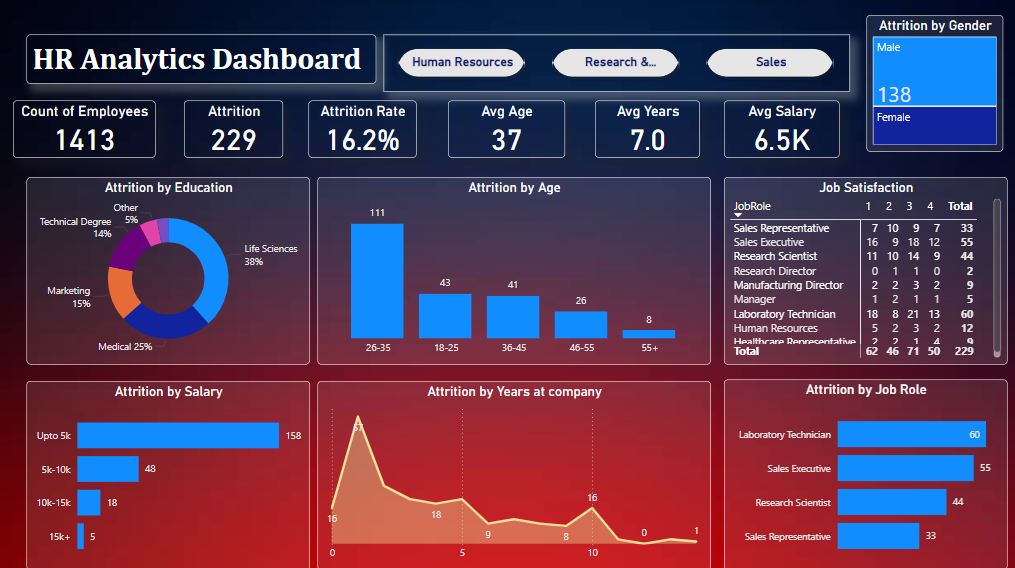

Layout of this report page (visuals, bound fields, positions):
{"tool":"powerbi","page":{"name":"Page 1","canvas":[1280,720],"ordinal":0},"visuals":[{"type":"card","title":"Count of Employees","fields":{"Values":["CountNonNull(Sheet1.EmpID)"]},"box":[18.9,130.2,179.3,71.7],"z":0},{"type":"card","title":"Attrition","fields":{"Values":["Sum(Sheet1.AttritionCount)"]},"box":[234,130.2,124.5,71.7],"z":1000},{"type":"card","title":"Attrition Rate","fields":{"Values":["Sheet1.AttritionRate"]},"box":[390.6,130.2,135.9,71.7],"z":2000},{"type":"card","title":"Avg Age","fields":{"Values":["Avg(Sheet1.Age)"]},"box":[566.1,130.2,147.2,71.7],"z":3000},{"type":"card","title":"Avg Years","fields":{"Values":["Avg(Sheet1.YearsAtCompany)"]},"box":[751,130.2,132.1,71.7],"z":4000},{"type":"card","title":"Avg Salary","fields":{"Values":["Avg(Sheet1.MonthlyIncome)"]},"box":[913.3,130.2,145.3,71.7],"z":5000},{"type":"donutChart","title":"Attrition by Education","fields":{"Category":["Sheet1.EducationField"],"Y":["Sum(Sheet1.AttritionCount)"]},"box":[35.9,226.4,356.6,235.9],"z":6000},{"type":"columnChart","title":"Attrition by Age","fields":{"Category":["Sheet1.AgeGroup"],"Y":["Sum(Sheet1.AttritionCount)"]},"box":[401.9,226.4,494.4,235.9],"z":7000},{"type":"pivotTable","title":"Job Satisfaction","fields":{"Rows":["Sheet1.JobRole"],"Columns":["Sheet1.JobSatisfaction"],"Values":["Sum(Sheet1.AttritionCount)"]},"box":[913.3,226.4,356.6,235.9],"z":8000},{"type":"barChart","title":"Attrition by Salary","fields":{"Category":["Sheet1.SalarySlab"],"Y":["Sum(Sheet1.AttritionCount)"]},"box":[35.9,483.1,356.6,237.8],"z":9000},{"type":"barChart","title":"Attrition by Job Role","fields":{"Category":["Sheet1.JobRole"],"Y":["Sum(Sheet1.AttritionCount)"]},"box":[913.3,481.2,356.6,239.6],"z":10000},{"type":"areaChart","title":"Attrition by Years at company","fields":{"Category":["Sheet1.YearsAtCompany"],"Y":["Sum(Sheet1.AttritionCount)"]},"box":[401.9,483.1,494.4,237.8],"z":11000},{"type":"treemap","title":"Attrition by Gender","fields":{"Group":["Sheet1.Gender"],"Values":["Sum(Sheet1.AttritionCount)"]},"box":[1092.6,22.6,171.7,171.7],"z":12000},{"type":"advancedSlicerVisual","title":"Departments","fields":{"Values":["Sheet1.Department"]},"box":[485,47.2,586.9,71.7],"z":13000},{"type":"textbox","box":[35.9,47.2,439.7,62.3],"z":14000}]}

Visuals, with their boxes in screenshot pixels (x1, y1, x2, y2), scaled from the page's 1280x720 canvas onto the 1015x568 screenshot:
"Count of Employees" card: pyautogui.locateOnScreen(15, 103, 157, 159)
"Attrition" card: pyautogui.locateOnScreen(186, 103, 284, 159)
"Attrition Rate" card: pyautogui.locateOnScreen(310, 103, 417, 159)
"Avg Age" card: pyautogui.locateOnScreen(449, 103, 566, 159)
"Avg Years" card: pyautogui.locateOnScreen(596, 103, 700, 159)
"Avg Salary" card: pyautogui.locateOnScreen(724, 103, 839, 159)
"Attrition by Education" donutChart: pyautogui.locateOnScreen(28, 179, 311, 365)
"Attrition by Age" columnChart: pyautogui.locateOnScreen(319, 179, 711, 365)
"Job Satisfaction" pivotTable: pyautogui.locateOnScreen(724, 179, 1007, 365)
"Attrition by Salary" barChart: pyautogui.locateOnScreen(28, 381, 311, 567)
"Attrition by Job Role" barChart: pyautogui.locateOnScreen(724, 380, 1007, 567)
"Attrition by Years at company" areaChart: pyautogui.locateOnScreen(319, 381, 711, 567)
"Attrition by Gender" treemap: pyautogui.locateOnScreen(866, 18, 1003, 153)
"Departments" advancedSlicerVisual: pyautogui.locateOnScreen(385, 37, 850, 94)
textbox: pyautogui.locateOnScreen(28, 37, 377, 86)
